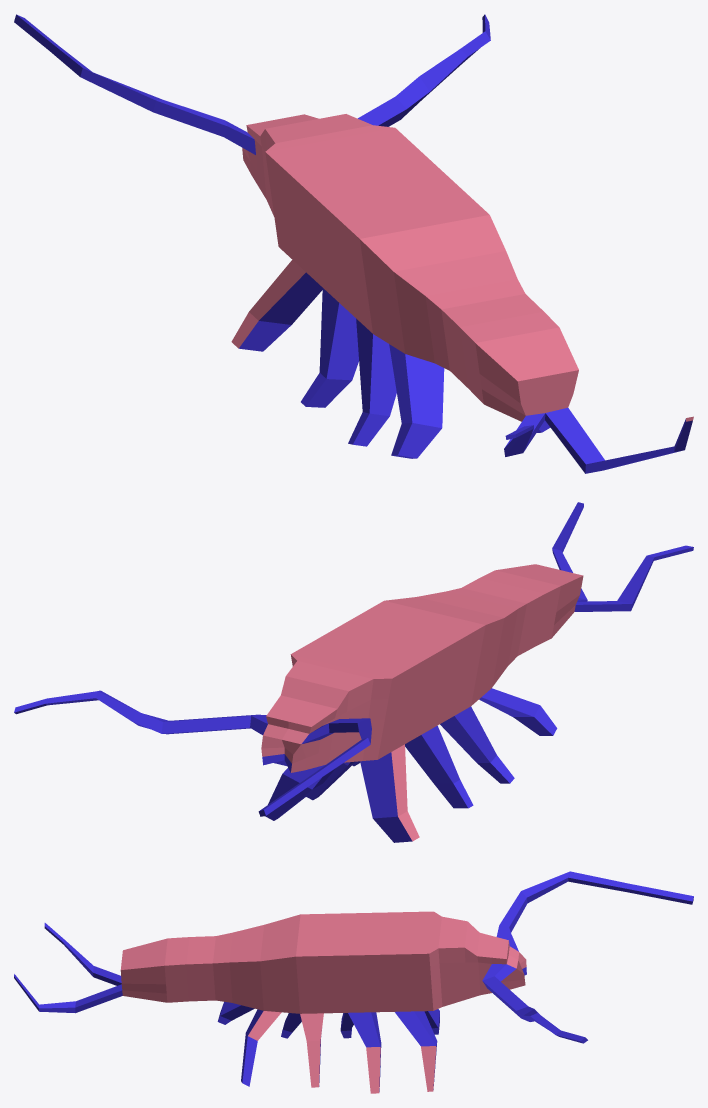
File: SILVERFISH_STANDARD(12).fbx
The picture shows the model from 3 angles, top to bottom: view 1: azimuth 30°, elevation 25°; view 2: azimuth 150°, elevation 25°; view 3: azimuth 270°, elevation 25°; orthographic projection. The views are drawn at different scales.
Visible parts, largest first — view 1: SILVERFISH; view 2: SILVERFISH; view 3: SILVERFISH.
Boxes of the visible parts, bbox=[...] form: SILVERFISH: bbox=[14, 14, 693, 473]; SILVERFISH: bbox=[14, 502, 693, 842]; SILVERFISH: bbox=[14, 871, 693, 1093].
Bounding box in the file's own units: 300 × 163 × 658.
